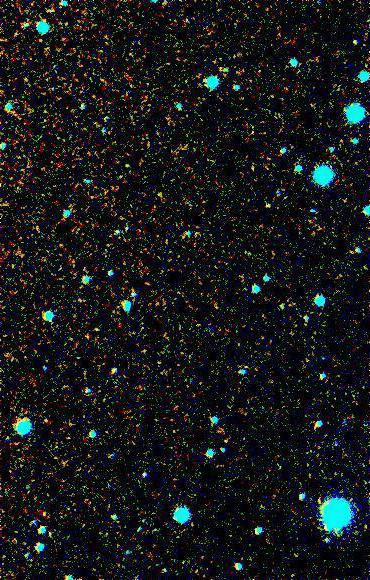star: (212, 426, 242, 456)
